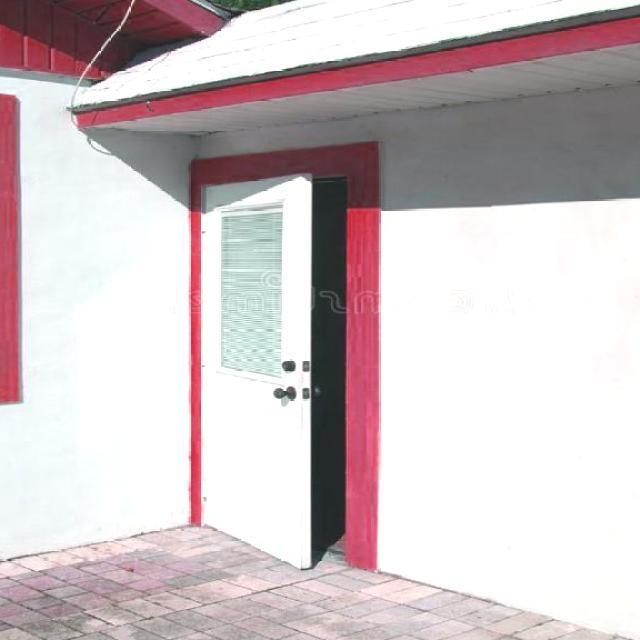door: (190, 174, 323, 568)
